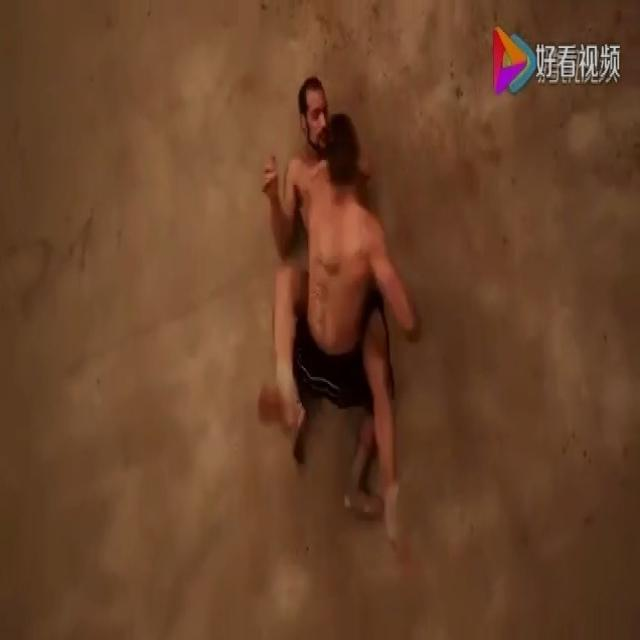fight: (236, 69, 439, 537)
